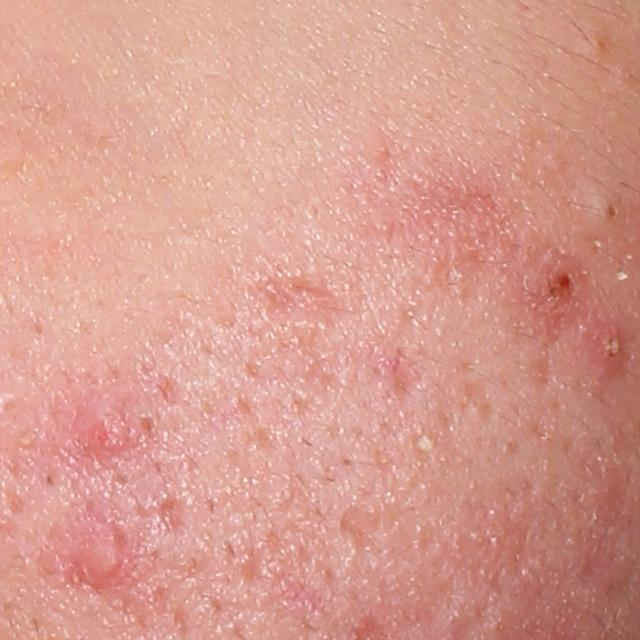atrophic_scar: (341, 505, 386, 554)
comedo: (591, 190, 628, 231)
papule: (68, 522, 131, 588), (525, 255, 586, 315), (81, 406, 136, 456), (582, 324, 630, 374)
pustule: (404, 425, 439, 462)
